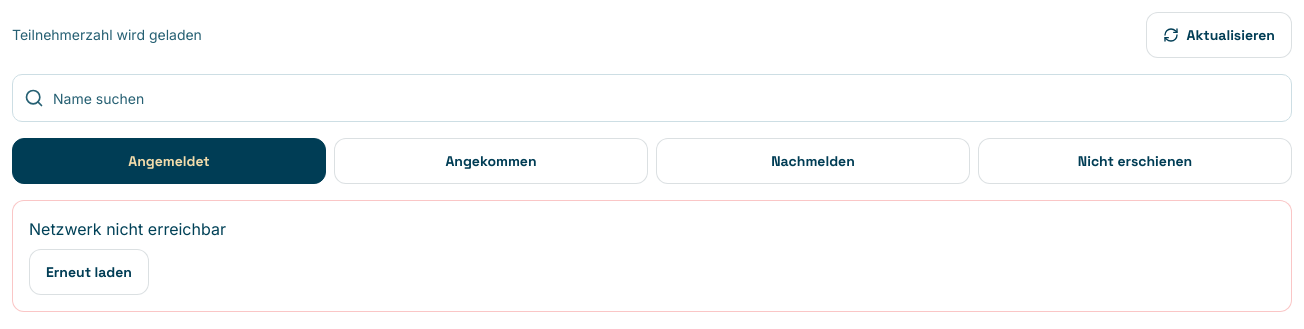
Test: event attendance desk › shows a load failure without implying zero participants
Expected: the message shows "Netzwerk nicht erreichbar", [29, 219, 226, 239]
Expected: the text named "Teilnehmerzahl noch nicht geladen" is shown, [12, 25, 202, 45]
What coordinates should you click on to do the following:
click the button "Erneut laden"
I would click on:
 (89, 272)
Its box is [29, 249, 149, 295].
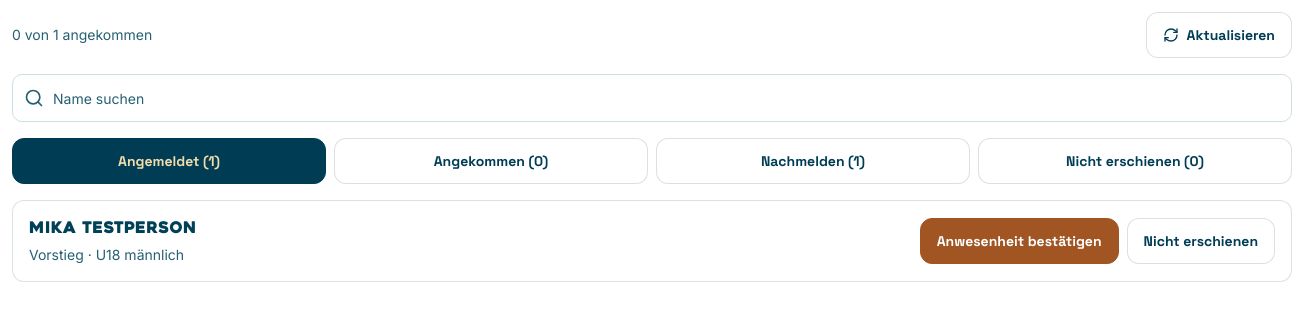
Now the heading "Mika Testperson" is shown, box [29, 217, 197, 241]
